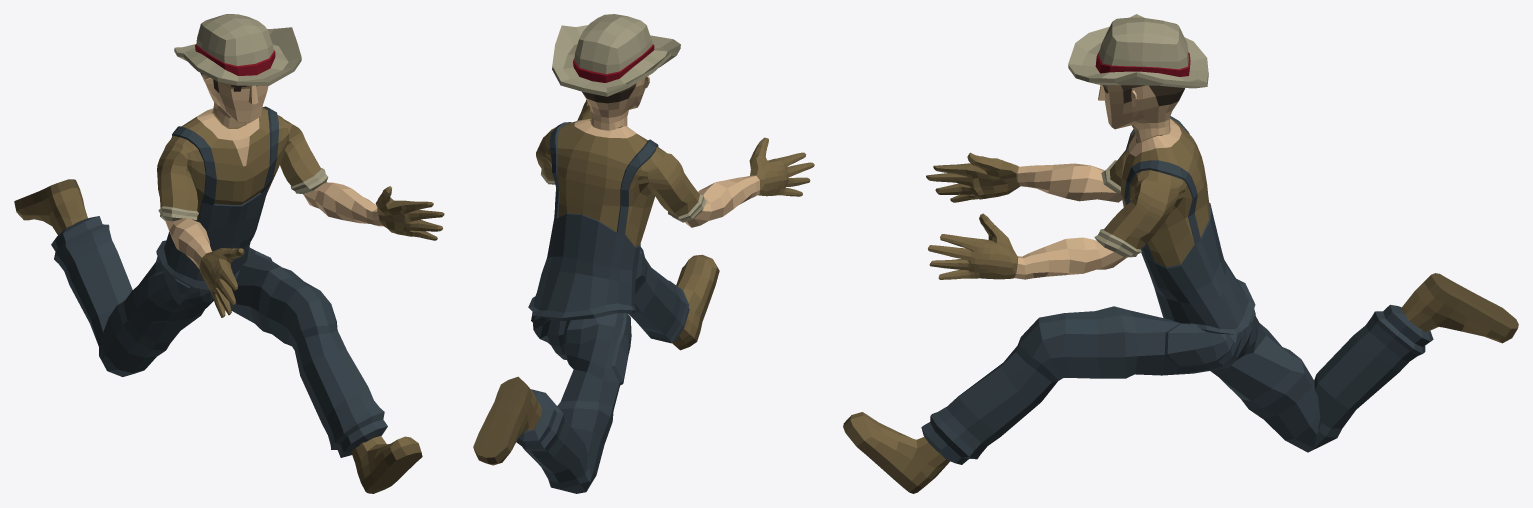
The model's file is Farmer_Jumping.fbx.
The picture shows the model from 3 angles, left to right: view 1: azimuth 30°, elevation 25°; view 2: azimuth 150°, elevation 25°; view 3: azimuth 270°, elevation 25°; orthographic projection. The views are drawn at different scales.
Parts seen in each view (by area): view 1: Farmer_Pants, Farmer_Body, Farmer_Head, Farmer_Feet; view 2: Farmer_Body, Farmer_Pants, Farmer_Head, Farmer_Feet; view 3: Farmer_Pants, Farmer_Body, Farmer_Head, Farmer_Feet.
Boxes of the visible parts, box(x1,y1,x2,y2) form: Farmer_Pants: box(51, 216, 387, 457); Farmer_Body: box(156, 106, 444, 317); Farmer_Head: box(174, 14, 301, 127); Farmer_Feet: box(14, 179, 422, 493); Farmer_Body: box(528, 100, 814, 320); Farmer_Pants: box(516, 246, 689, 493); Farmer_Head: box(552, 14, 680, 130); Farmer_Feet: box(473, 254, 719, 465); Farmer_Pants: box(921, 304, 1433, 464); Farmer_Body: box(926, 116, 1255, 334); Farmer_Head: box(1068, 14, 1208, 142); Farmer_Feet: box(843, 273, 1518, 493).
Bounding box in the file's own units: 0.6945 × 1.73 × 1.28.
